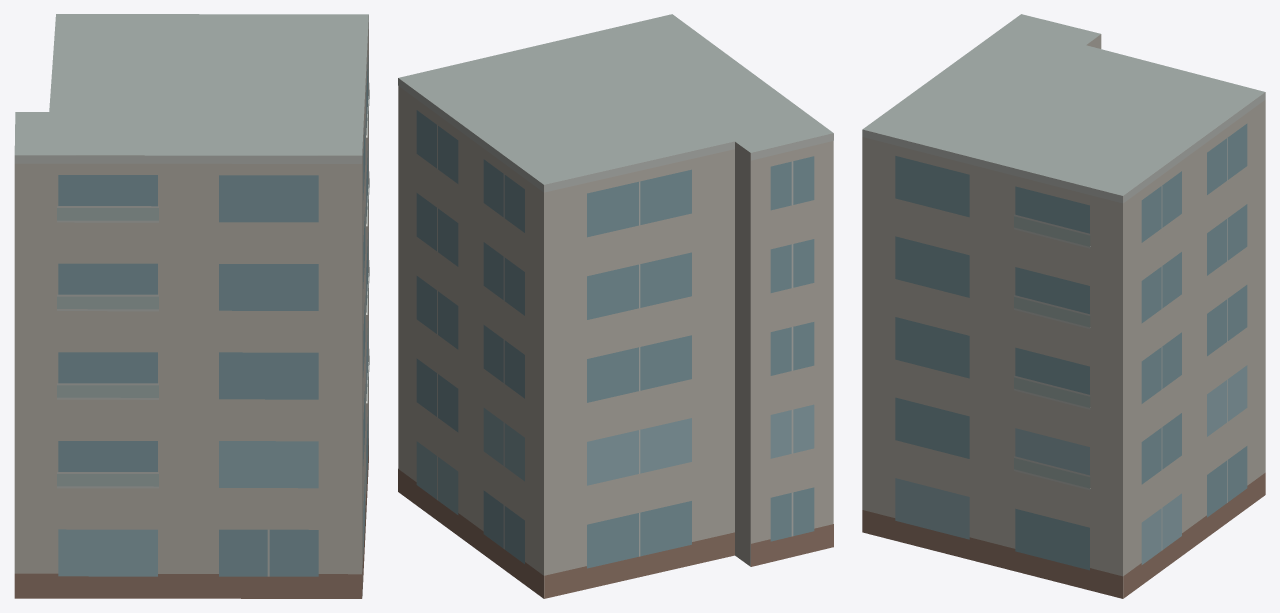
Rendered from survey-upis-32790905.glb.
3 views of the same model, side by side, from view 1: azimuth 30°, elevation 25°; view 2: azimuth 150°, elevation 25°; view 3: azimuth 270°, elevation 25° (orthographic). The views are drawn at different scales.
Parts seen in each view (by area): view 1: survey-upis-32790905.tmp; view 2: survey-upis-32790905.tmp; view 3: survey-upis-32790905.tmp.
Part boxes in pixels (x1=…): survey-upis-32790905.tmp: x1=14, y1=14, x2=369, y2=598; survey-upis-32790905.tmp: x1=398, y1=14, x2=833, y2=598; survey-upis-32790905.tmp: x1=862, y1=14, x2=1265, y2=598.
Bounding box in the file's own units: 12.7 × 13.1 × 11.89.
